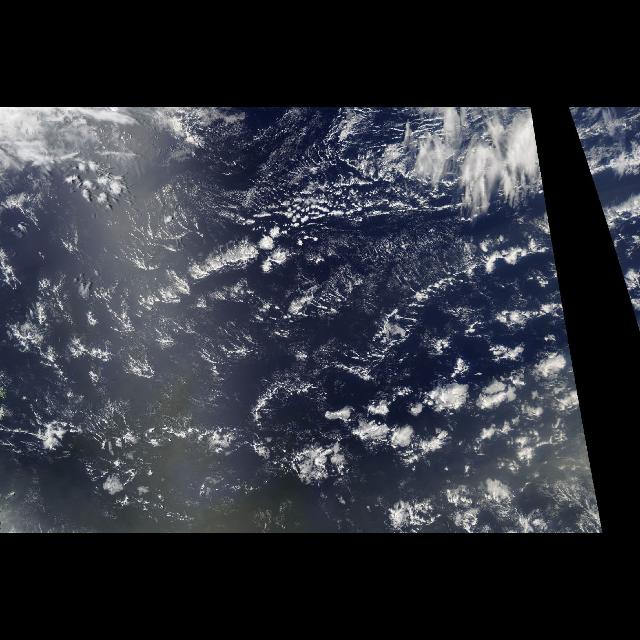Fish: (400, 114, 550, 228), (392, 248, 566, 314), (127, 240, 291, 310), (568, 114, 640, 228)
Flower: (288, 283, 604, 533), (629, 300, 639, 334)
Gravel: (148, 107, 410, 250)
Sugar: (8, 120, 330, 482)
